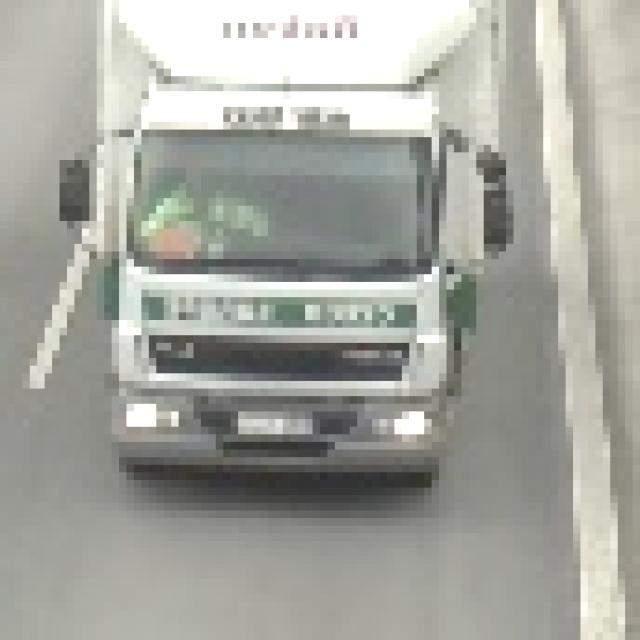truck: (53, 1, 507, 481)
